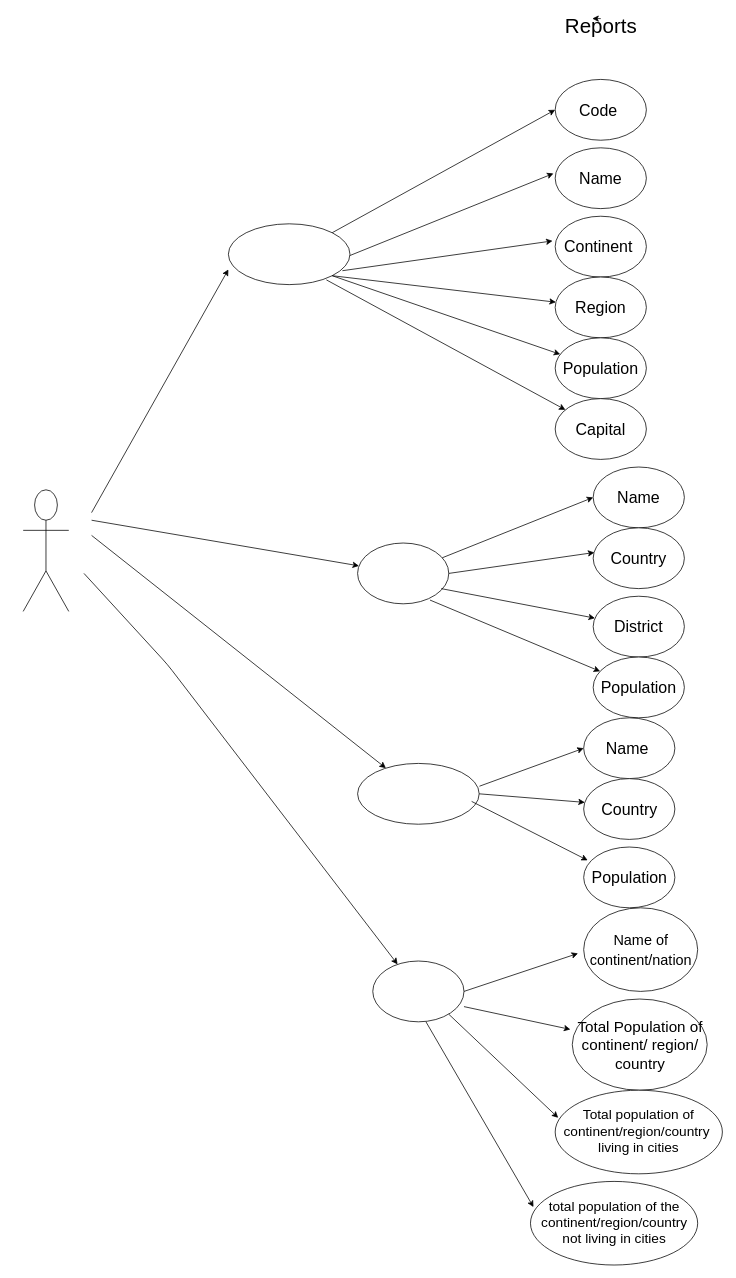
Some shapes in this 736 by 1278 pixel diagram are drawn without their labels. Each missing label, with the centre of its shape:
Open capital city report: point 418,793
Open city report: point 403,573
Open country report: point 289,254
Open population report: point 418,991
Worker: point 45,550
